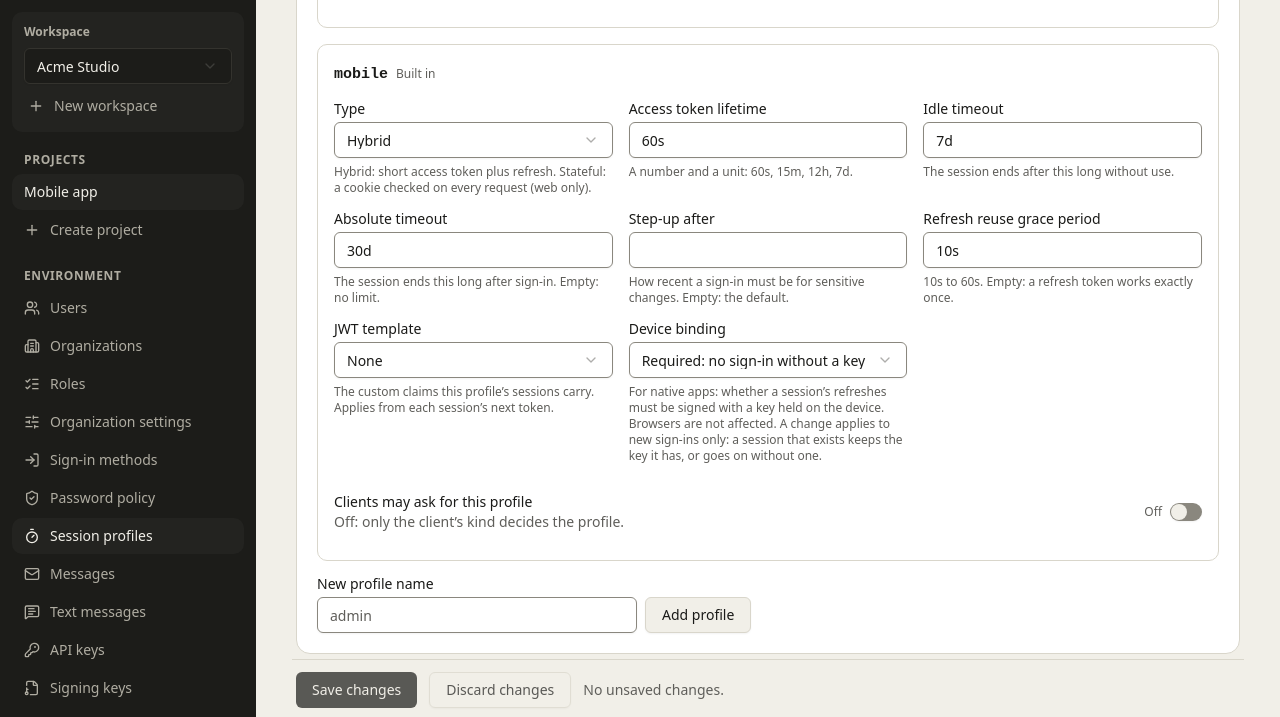
Scenario: device binding on the session profiles screen › asking for less (required to optional) asks first, in the operator’s words
(page scrolled)
Select "Optional: bound when the app sends a key" in the dropdown labelled "Device binding" at (768, 360), box [629,342,907,378]
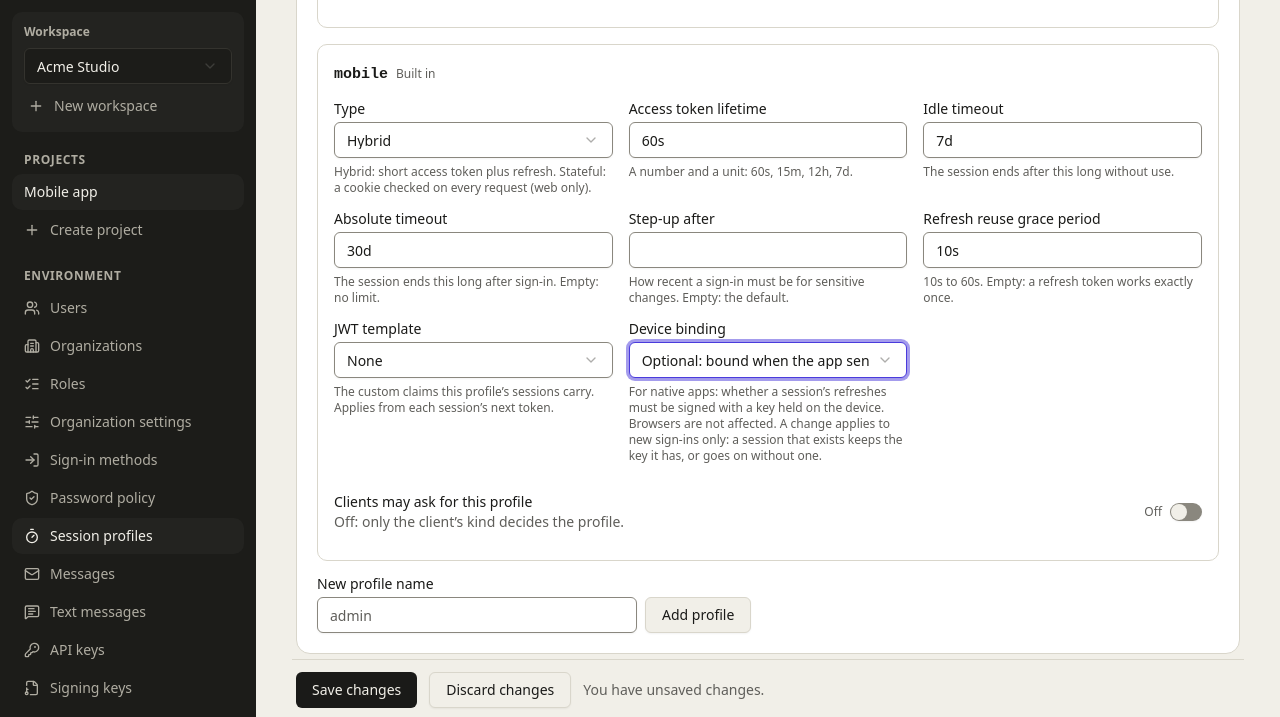
Click the button "Save changes".
click(357, 690)  # box [296,672,417,708]
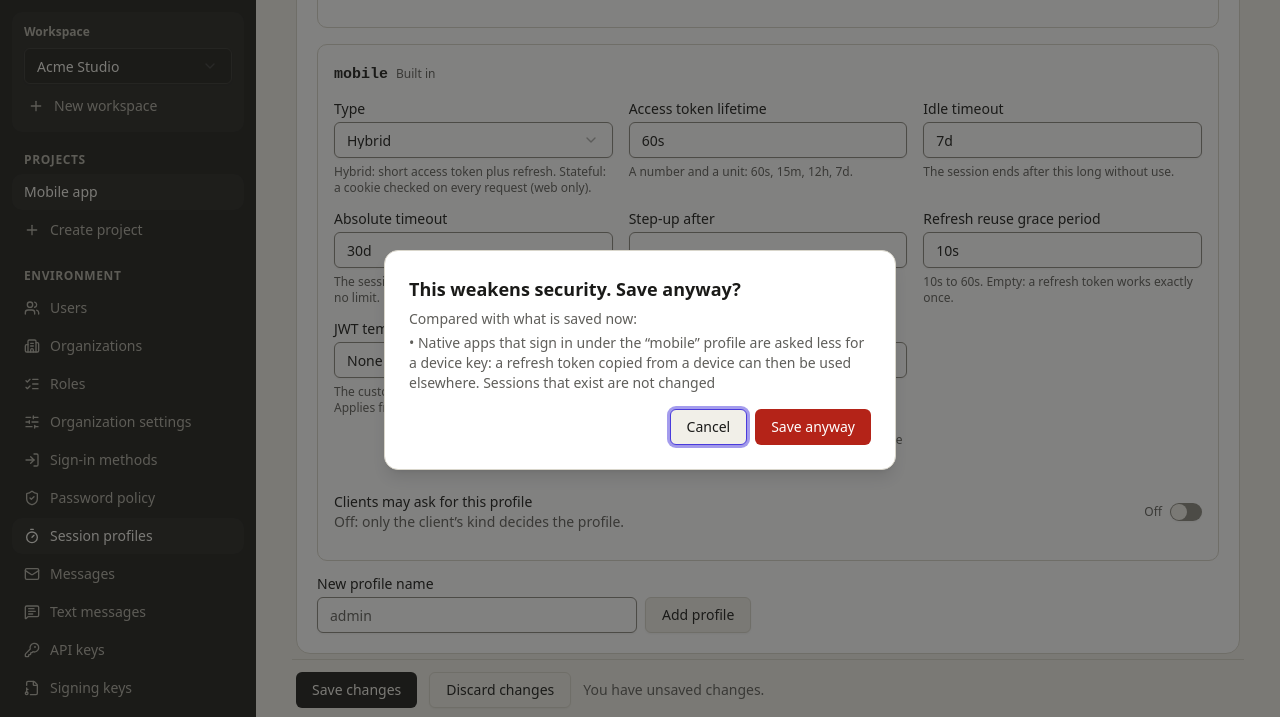
Now the heading "This weakens security. Save anyway?" is shown, box [409,277,741,301]
Click the button "Save anyway".
click(813, 427)  # box [755,409,871,445]
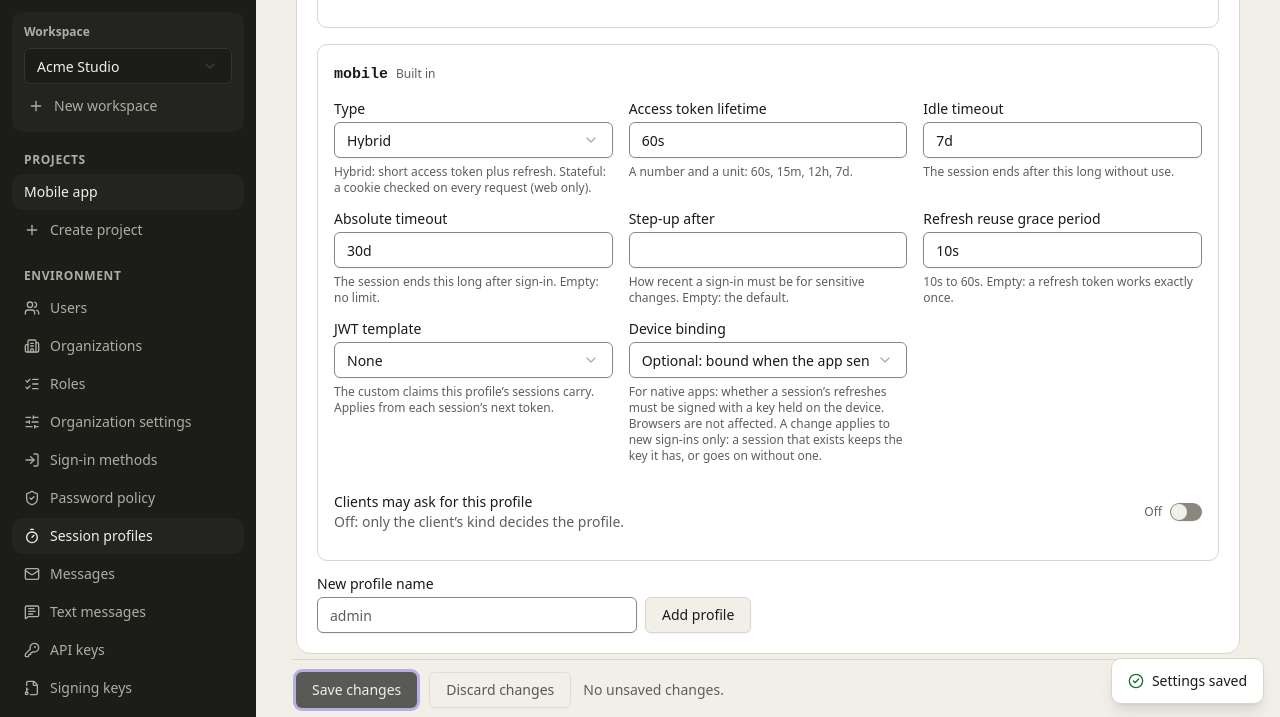
Now the list item "Settings saved" is shown, box [1111,658,1264,704]
